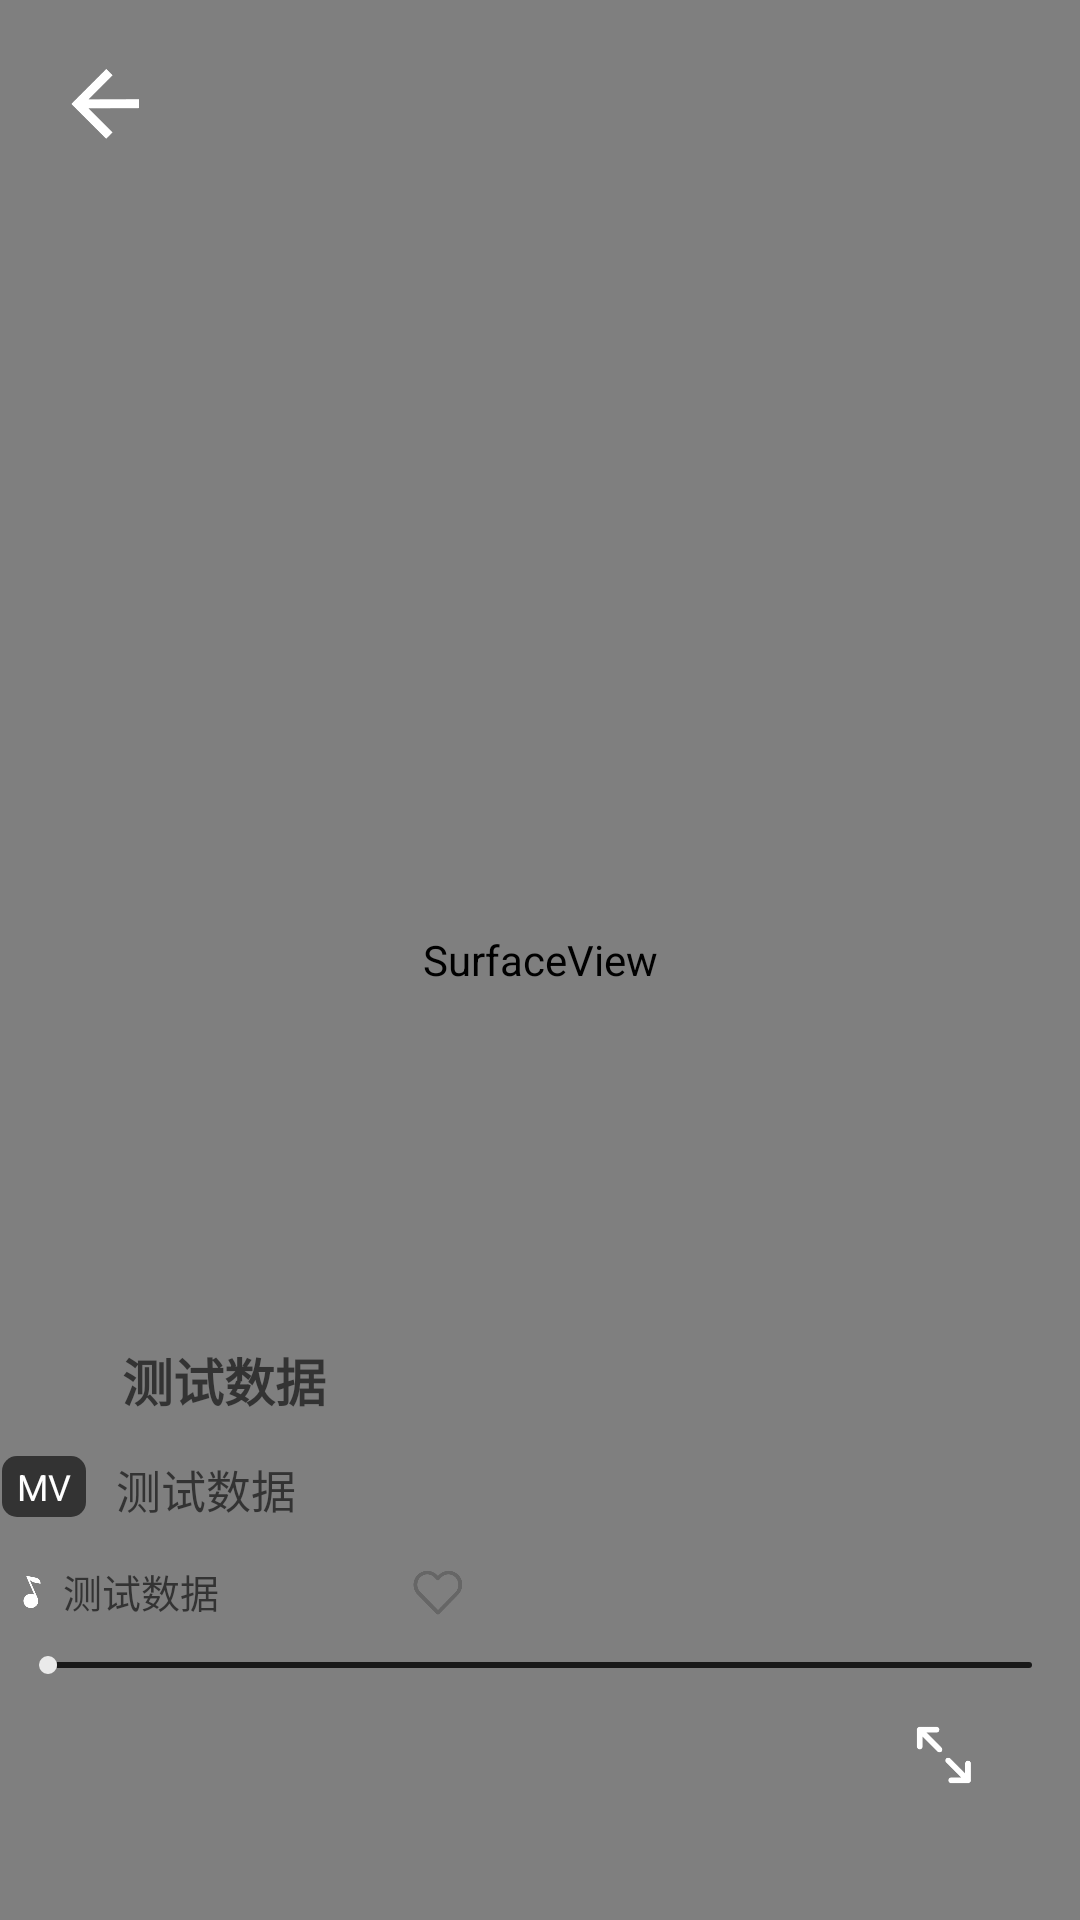

Where icons sit on this 1080px x 1920px app screen, as (x1,y1,x2,y2):
back: (72,69,139,139)
fullscreen: (917,1727,971,1783)
like: (414,1571,462,1614)
music: (23,1576,41,1608)
